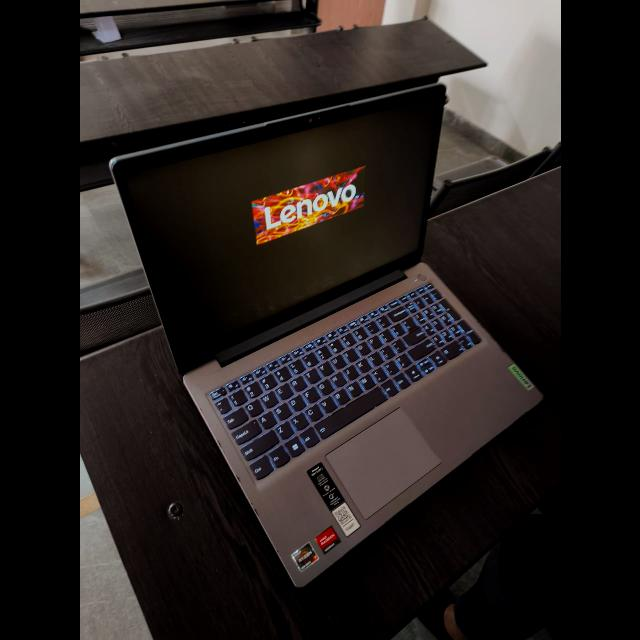laptop: (93, 71, 534, 577)
